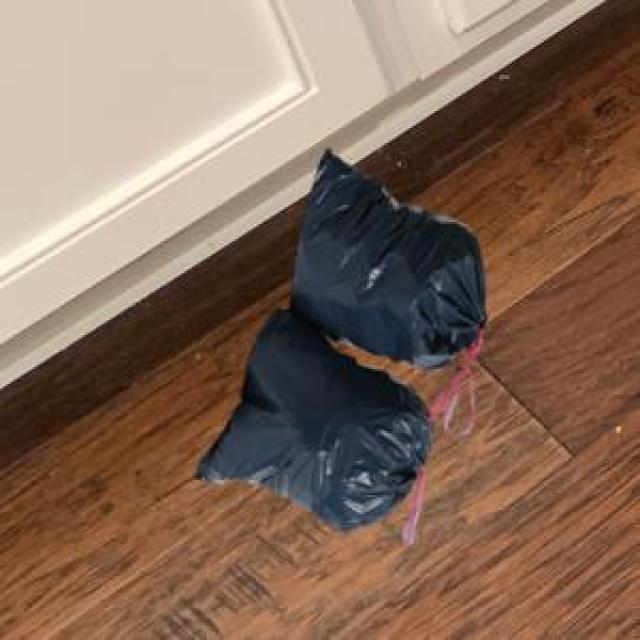Vinyl: (198, 151, 485, 528)
